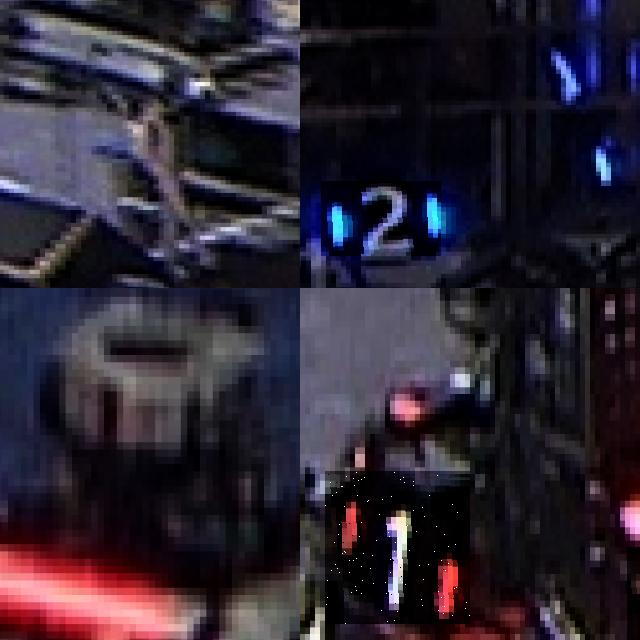B2: (321, 181, 441, 256)
R1: (325, 471, 470, 624)
